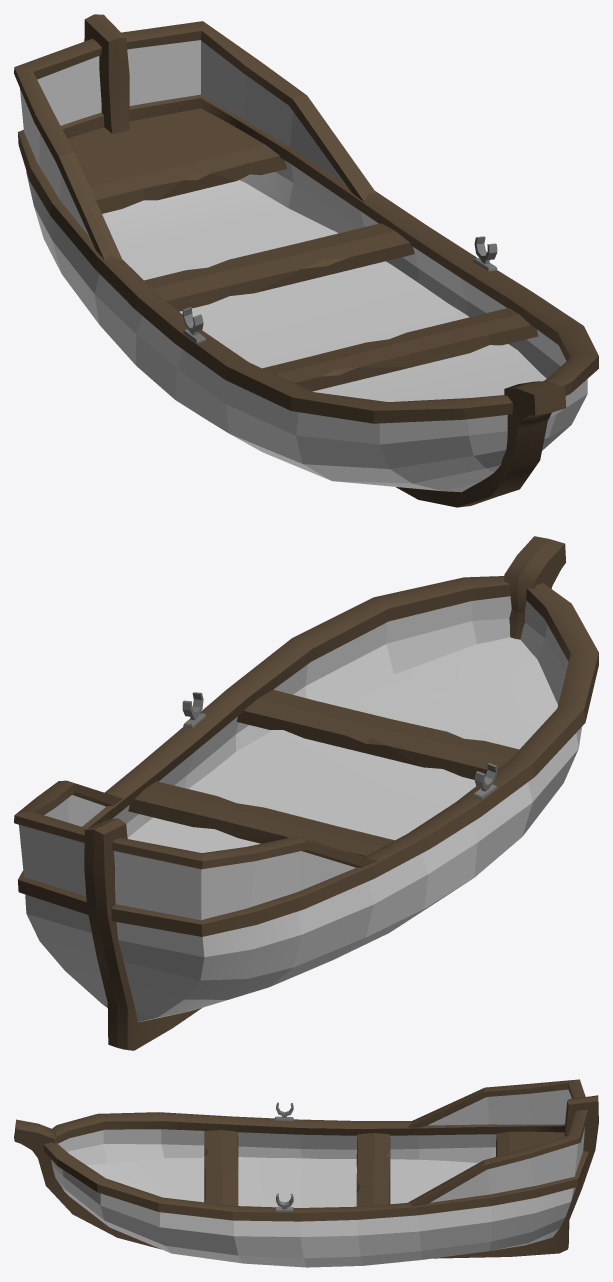
File: SM_Veh_Rowboat_01.fbx
The picture shows the model from 3 angles, top to bottom: view 1: azimuth 30°, elevation 25°; view 2: azimuth 150°, elevation 25°; view 3: azimuth 270°, elevation 25°; orthographic projection. The views are drawn at different scales.
Visible parts, largest first — view 1: SM_Veh_Rowboat_01; view 2: SM_Veh_Rowboat_01; view 3: SM_Veh_Rowboat_01.
Boxes of the visible parts, bbox=[...] form: SM_Veh_Rowboat_01: bbox=[14, 14, 598, 507]; SM_Veh_Rowboat_01: bbox=[14, 536, 598, 1050]; SM_Veh_Rowboat_01: bbox=[14, 1079, 598, 1267].
Size of the model in its own units: 192 by 148 by 491.
